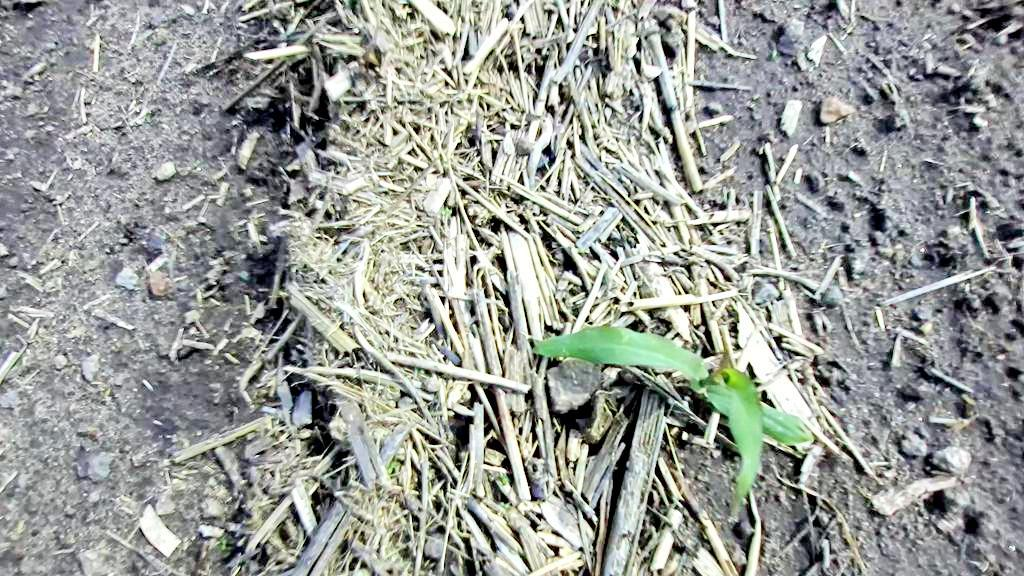BroWeed: (767, 48, 787, 67), (232, 267, 251, 281), (385, 458, 400, 475), (496, 470, 510, 485), (499, 500, 511, 510), (440, 206, 451, 216), (220, 538, 227, 550), (445, 208, 454, 217)
Maize: (527, 241, 826, 532)
